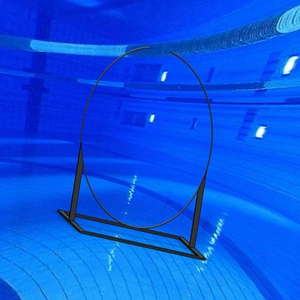circle: (56, 45, 215, 262)
